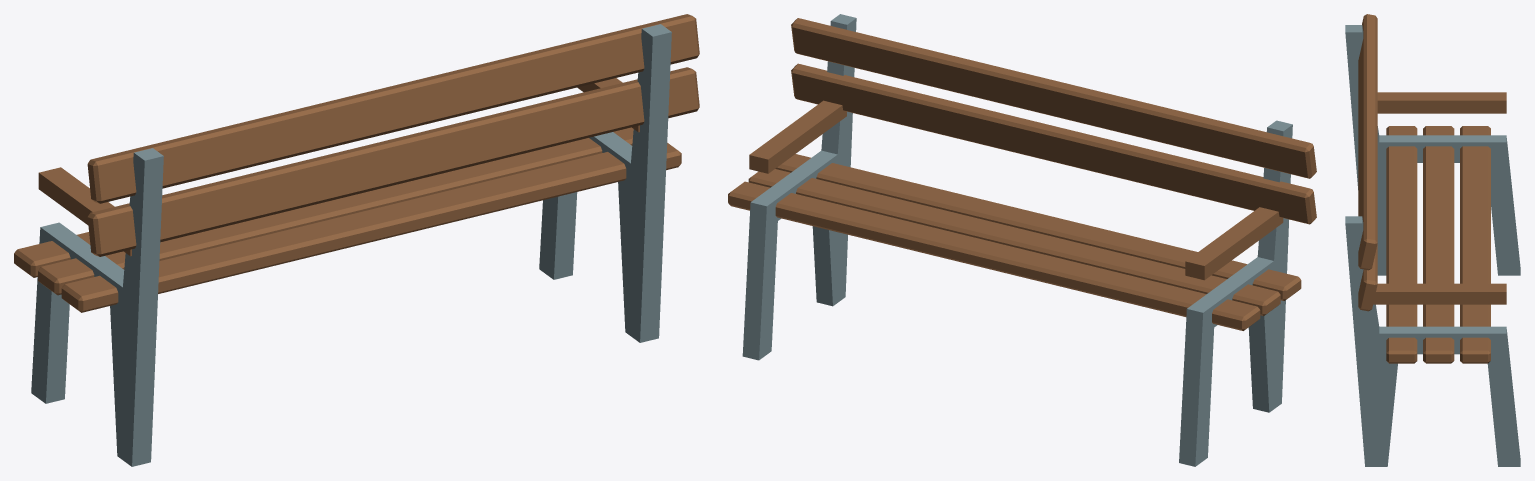
The model's file is sm_env_prop_bench.glb.
3 views of the same model, side by side, from view 1: azimuth 30°, elevation 25°; view 2: azimuth 150°, elevation 25°; view 3: azimuth 270°, elevation 25° (orthographic). The views are drawn at different scales.
Visible parts, largest first — view 1: BackSlat.001, BackSlat, SeatSlat, BenchFrame, BenchFrame.001, SeatSlat.001, Armrest, SeatSlat.002; view 2: BackSlat.001, BackSlat, SeatSlat.002, BenchFrame, BenchFrame.001, SeatSlat.001, SeatSlat, Armrest, Armrest.001; view 3: BenchFrame.001, BenchFrame, SeatSlat.001, SeatSlat, SeatSlat.002, BackSlat.001, Armrest.001, Armrest, BackSlat.
Boxes of the visible parts, <box> form: BackSlat.001: <box>87,14,699,203</box>; BackSlat: <box>87,67,699,256</box>; SeatSlat: <box>61,143,681,312</box>; BenchFrame: <box>31,148,163,466</box>; BenchFrame.001: <box>539,24,671,342</box>; SeatSlat.001: <box>38,127,633,295</box>; Armrest: <box>38,167,131,256</box>; SeatSlat.002: <box>14,232,90,277</box>; BackSlat.001: <box>791,18,1316,178</box>; BackSlat: <box>791,63,1316,224</box>; SeatSlat.002: <box>728,181,1260,330</box>; BenchFrame: <box>1179,120,1292,466</box>; BenchFrame.001: <box>742,14,856,360</box>; SeatSlat.001: <box>748,169,1280,315</box>; SeatSlat: <box>775,154,1301,300</box>; Armrest: <box>1185,207,1283,280</box>; Armrest.001: <box>749,100,846,173</box>; BenchFrame.001: <box>1345,216,1520,466</box>; BenchFrame: <box>1345,25,1520,275</box>; SeatSlat.001: <box>1423,126,1454,363</box>; SeatSlat: <box>1386,126,1417,363</box>; SeatSlat.002: <box>1460,126,1490,363</box>; BackSlat.001: <box>1358,14,1377,270</box>; Armrest.001: <box>1373,283,1506,304</box>; Armrest: <box>1377,92,1506,113</box>; BackSlat: <box>1358,244,1377,311</box>.
Bounding box in the file's own units: 1.9 × 0.95 × 0.62.
